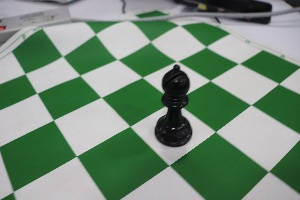black_bishop: (154, 55, 198, 151)
